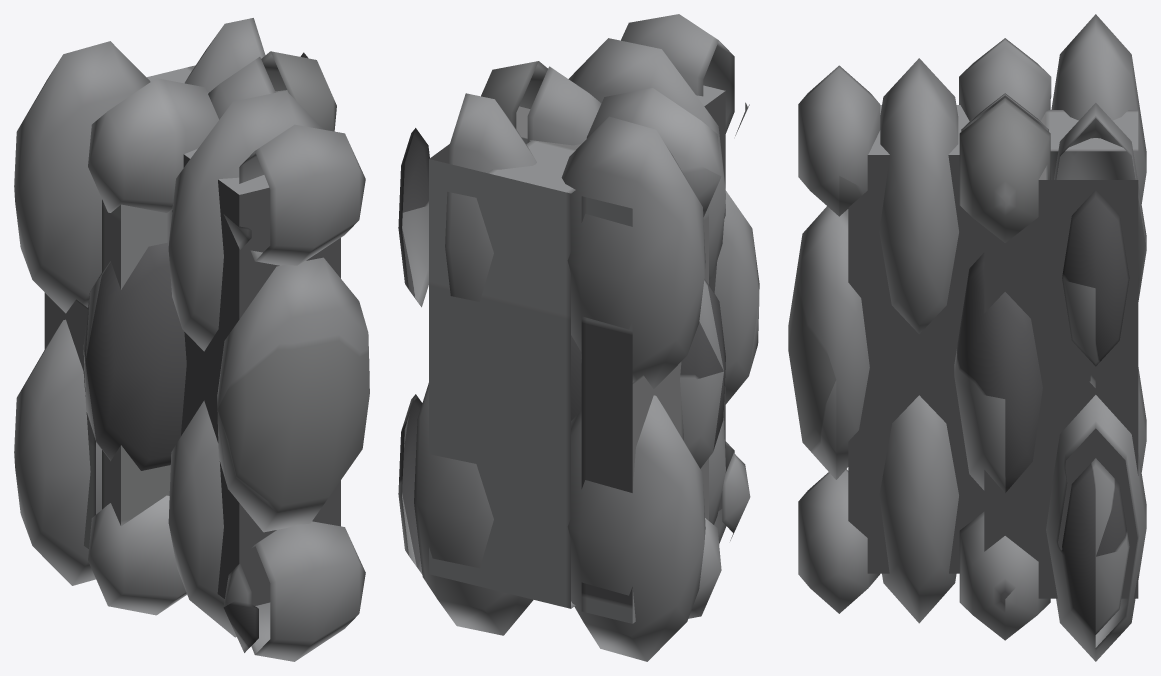
3 views of the same model, side by side, from view 1: azimuth 30°, elevation 25°; view 2: azimuth 150°, elevation 25°; view 3: azimuth 270°, elevation 25° (orthographic).
Bounding box in the file's own units: 0.5998 × 1.03 × 0.6045.
